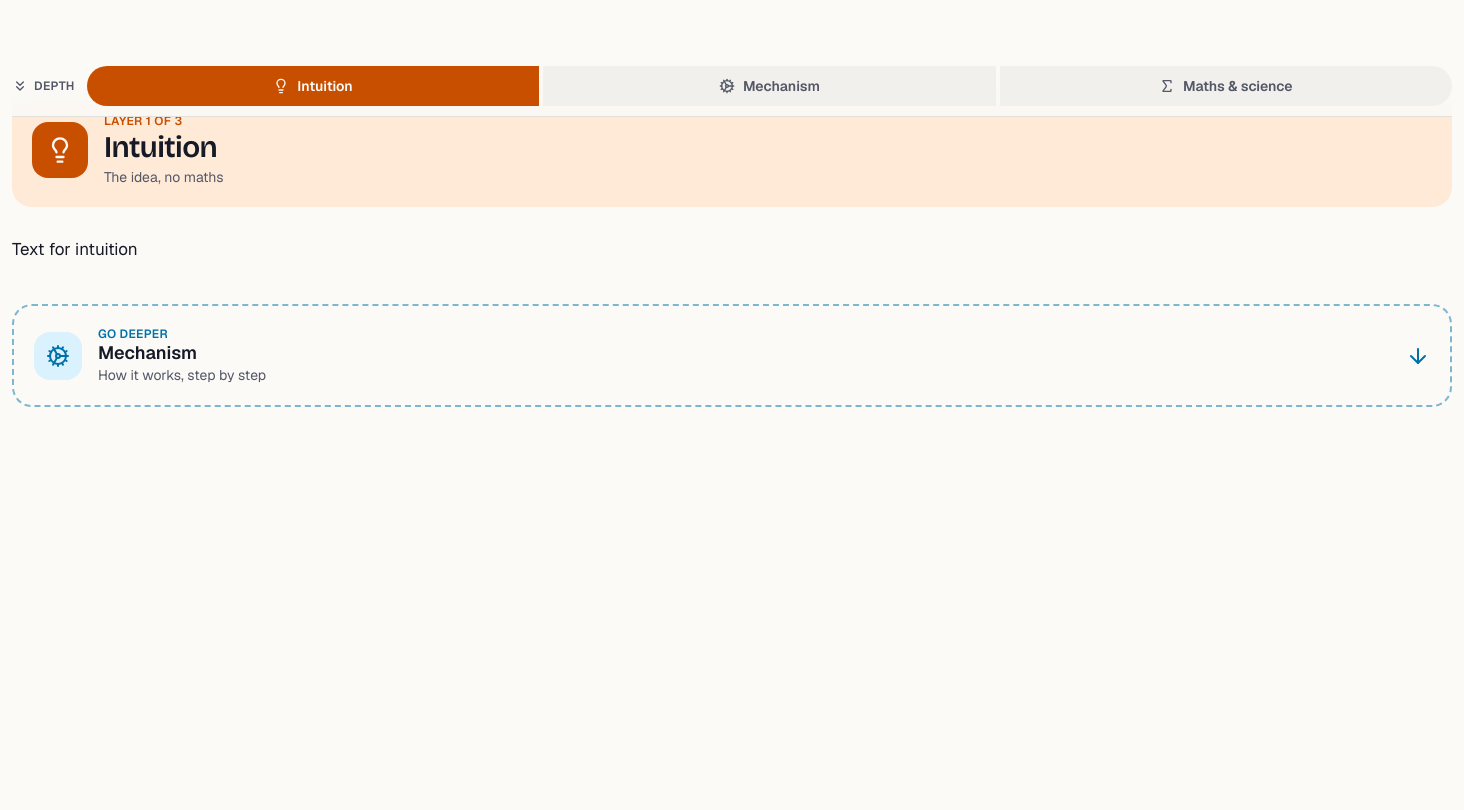
Test: explainer depth › reveals one more layer with Go deeper, keeping the earlier ones
The width and height of the screenshot is (1464, 810).
Click the button "Go deeper Mechanism How it works, step by step" at (58, 356), box [12,304,1452,407]
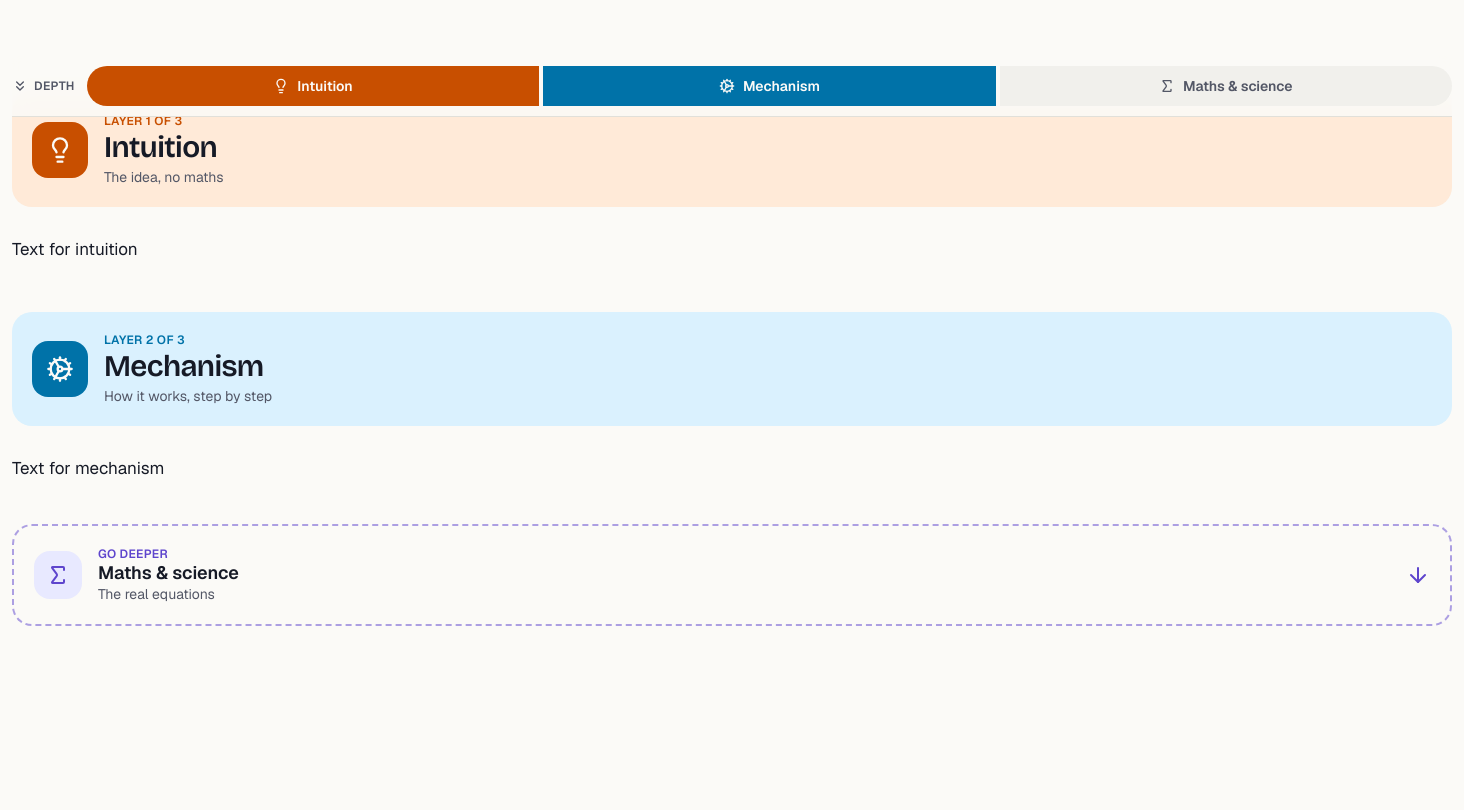
Expected: the text "Text for intuition" is shown, [12,238,138,260]
Expected: the text "Text for mechanism" is shown, [12,457,164,479]
